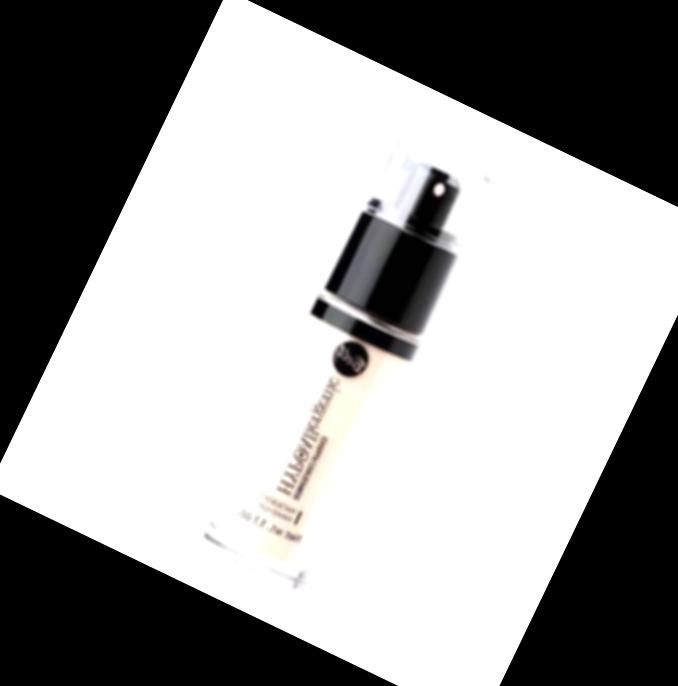cosmetic: (196, 131, 499, 596)
